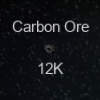Carbon: (11, 18, 92, 78)
